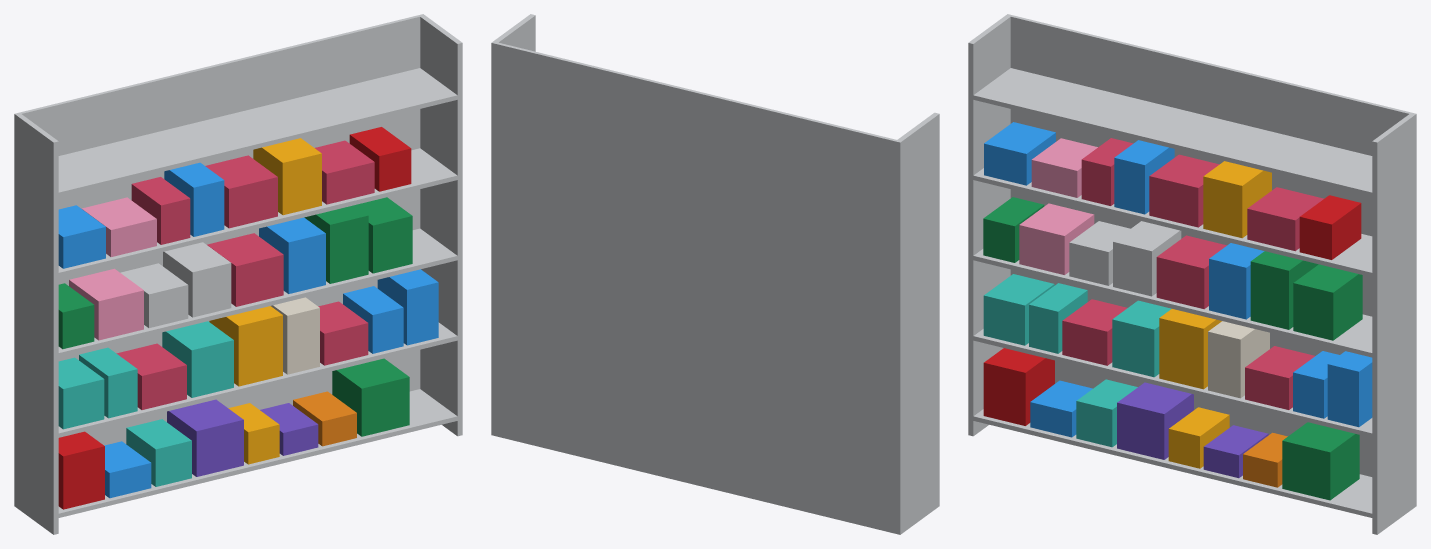
The model's file is mal-011.glb.
3 views of the same model, side by side, from view 1: azimuth 30°, elevation 25°; view 2: azimuth 150°, elevation 25°; view 3: azimuth 330°, elevation 25° (orthographic).
Parts seen in each view (by area): view 1: back_panel, side_left, shelf_5, side_right, item_1_8, shelf_1, shelf_4, shelf_3, item_1_4, item_2_5, item_2_4, item_3_5 (+29 smaller); view 2: back_panel, side_left, side_right; view 3: back_panel, side_right, shelf_5, side_left, item_1_8, item_3_8, shelf_1, item_1_1, item_1_4, shelf_4, shelf_3, item_4_6 (+29 smaller).
Part boxes in pixels (<box>): back_panel: <box>14,14,424,507</box>; side_left: <box>16,113,58,534</box>; shelf_5: <box>58,68,457,196</box>; side_right: <box>420,14,462,436</box>; item_1_8: <box>332,358,409,436</box>; shelf_1: <box>58,389,457,517</box>; shelf_4: <box>58,148,457,277</box>; shelf_3: <box>58,228,457,357</box>; item_1_4: <box>167,399,243,476</box>; item_2_5: <box>209,306,282,386</box>; item_2_4: <box>162,321,233,397</box>; item_3_5: <box>207,233,283,306</box>; back_panel: <box>491,42,902,534</box>; side_left: <box>895,112,939,533</box>; side_right: <box>491,14,535,435</box>; back_panel: <box>1006,14,1416,507</box>; side_right: <box>1372,112,1416,534</box>; shelf_5: <box>973,68,1372,196</box>; side_left: <box>968,14,1010,436</box>; item_1_8: <box>1282,422,1359,500</box>; item_3_8: <box>1293,264,1362,340</box>; shelf_1: <box>973,409,1372,517</box>; item_1_1: <box>983,348,1054,425</box>; item_1_4: <box>1117,382,1193,459</box>; shelf_4: <box>973,168,1372,277</box>; shelf_3: <box>973,249,1372,357</box>; item_4_6: <box>1203,161,1271,238</box>.
Bounding box in the file's own units: 2.4 × 2.2 × 0.4.
